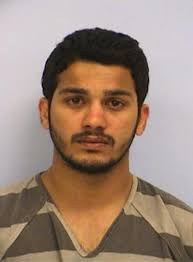Indian_Male: (59, 68, 138, 165)
